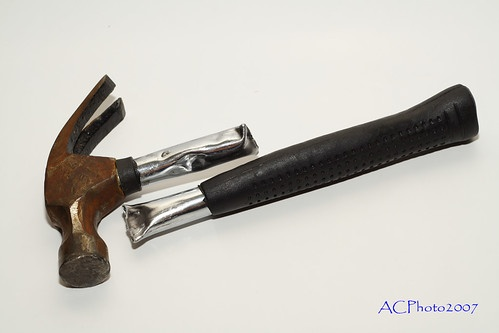hammer: (38, 74, 471, 279)
